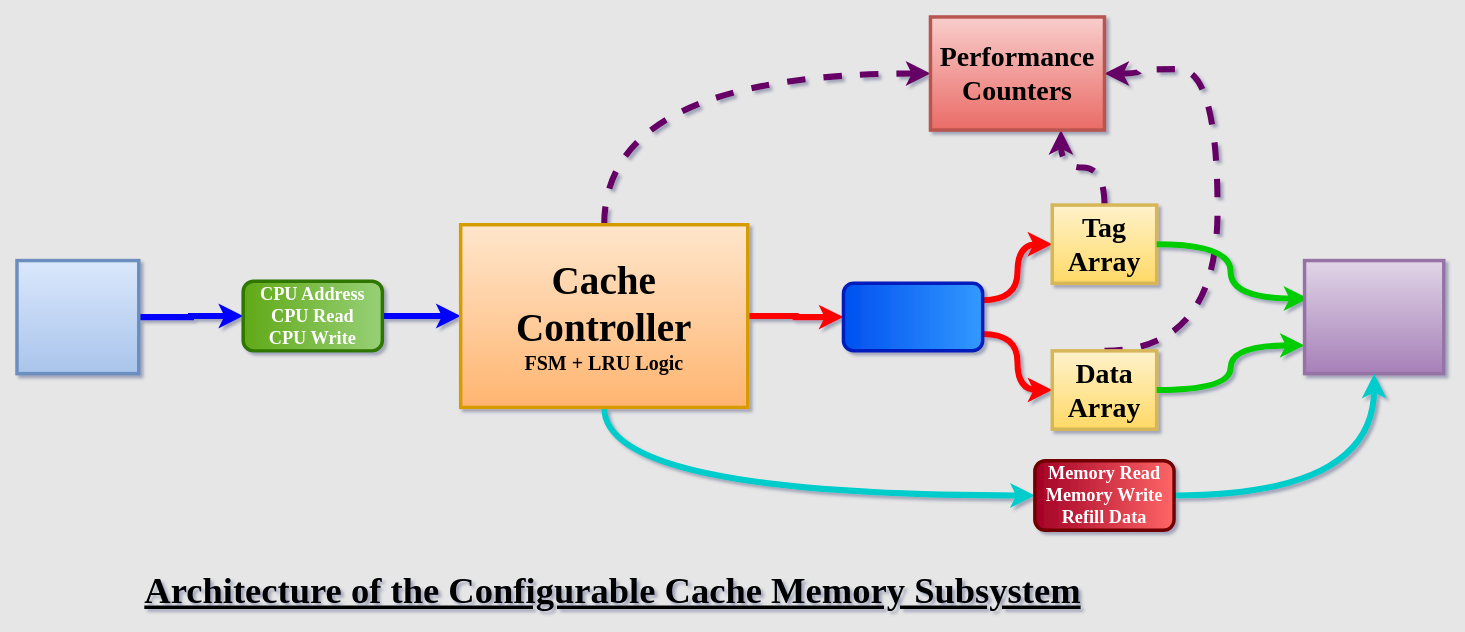
The diagram is 1465 pixels wide and 632 high, and some of its shapes have lost their labels. Here are the shapes that lost their labels. From the top down, the box of each, then its label:
(15, 258, 140, 375): CPU
(841, 281, 984, 352): Index Tag Write Enable
(1302, 258, 1445, 375): Main Memory
